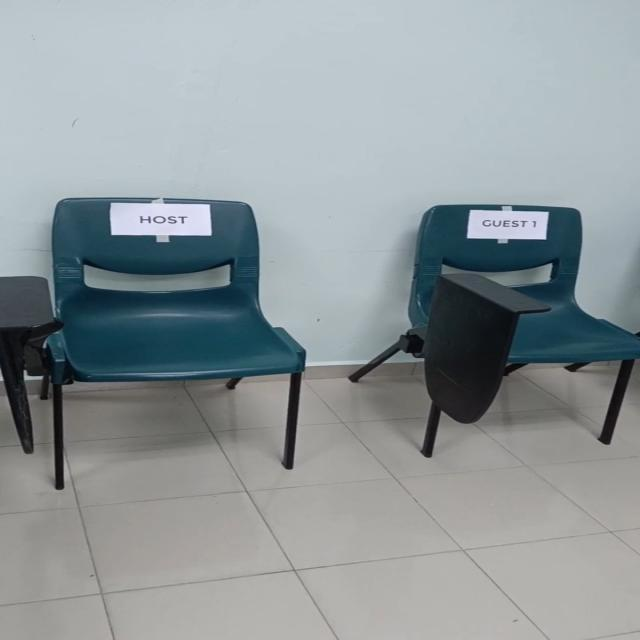sandalye: (348, 202, 639, 458), (43, 198, 306, 470)
